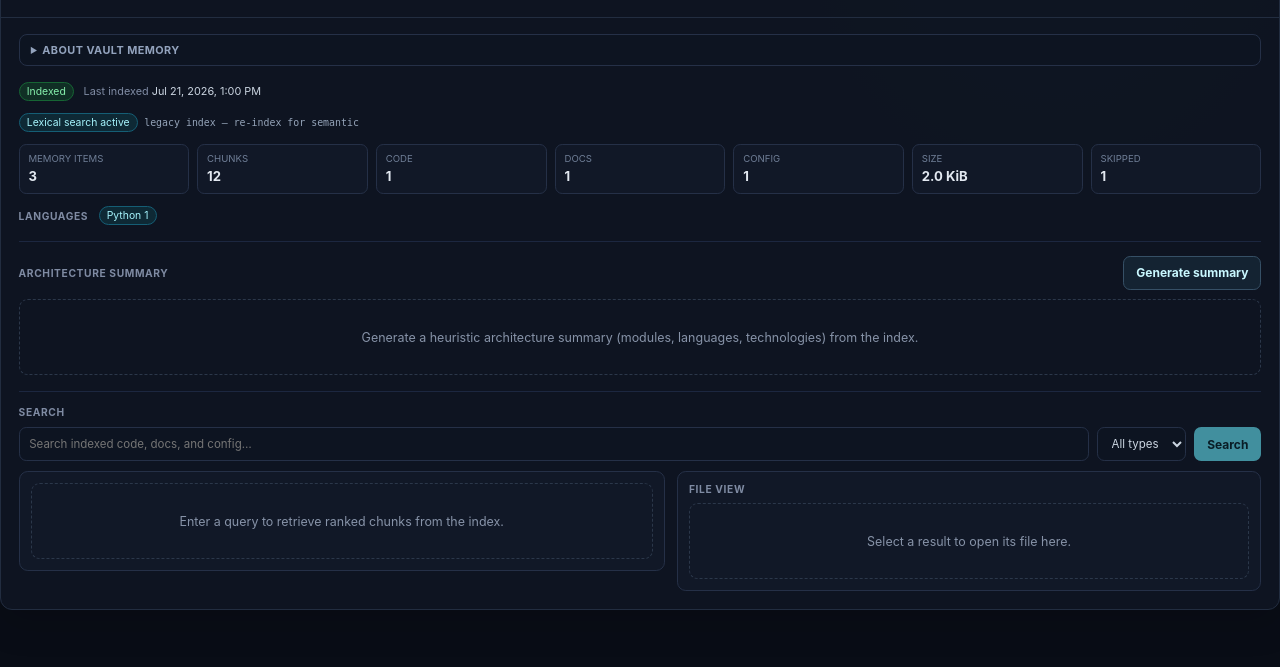
Test: VaultIndexPanel › opens a search result in a line-numbered file view and highlights the hit range
The image size is (1280, 667).
Type "authenticate" into the search field named "Vault search query" at point(554, 444), box [19,427,1089,461]
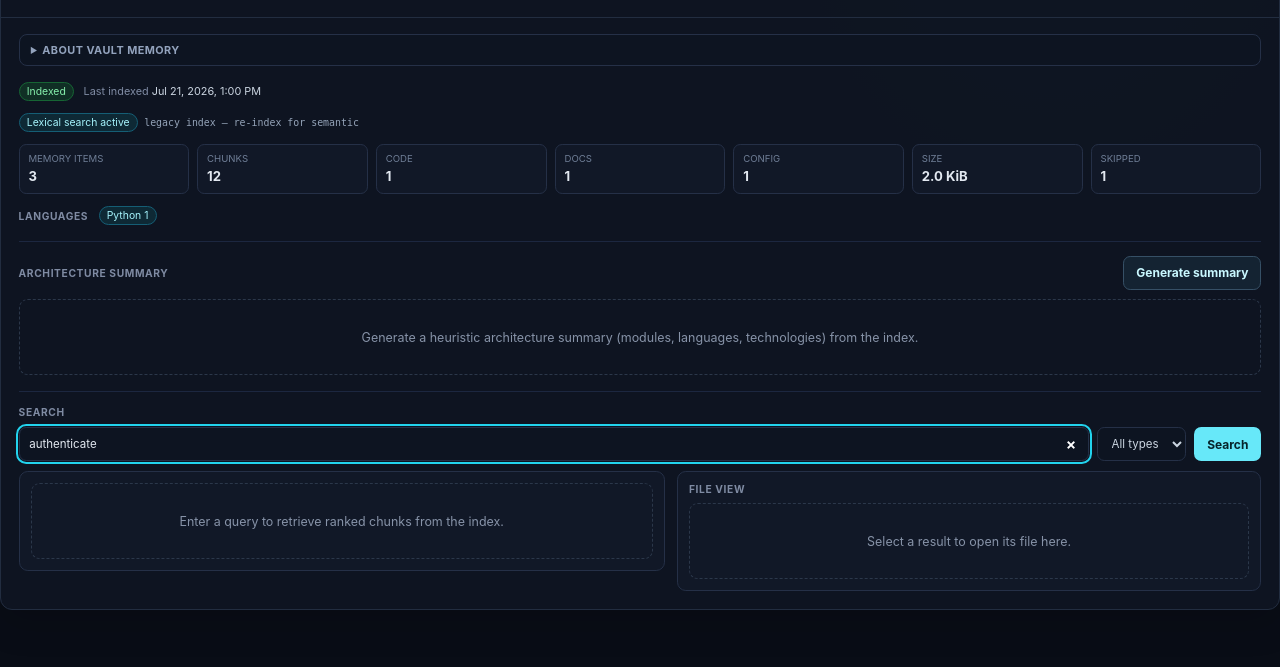
Click the button "Search" at point(1228, 444), box [1194,427,1261,461]
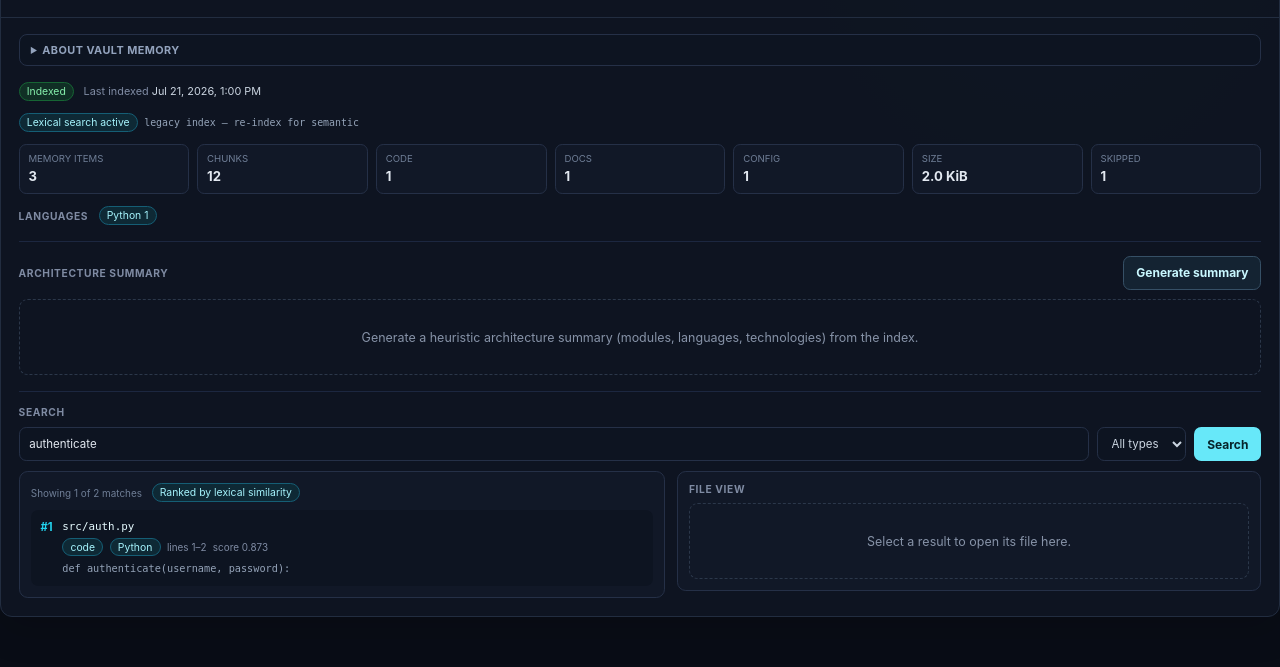
Click the button "src/auth.py" at point(98, 526), box [31,510,653,586]
(page scrolled)
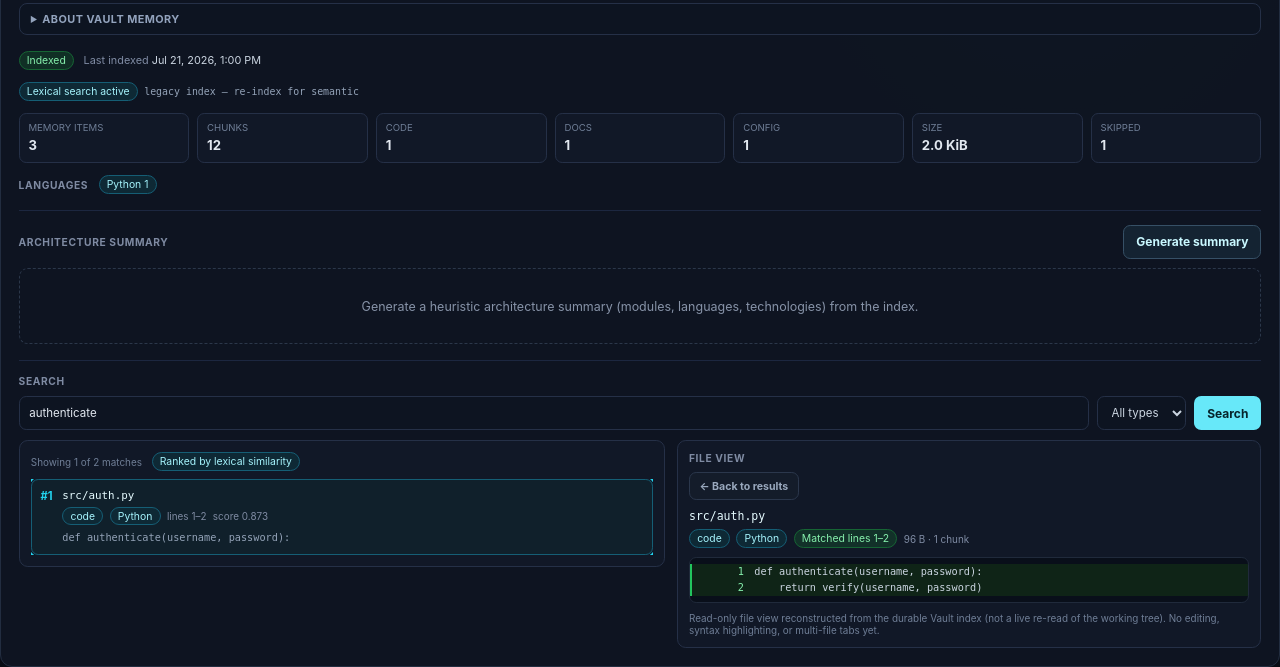
Result: the text "return verify(username, password)" is shown at [754,580,982,596]
Result: the text "Matched lines 1–2" is shown at [794,529,897,548]
Result: the text "2 return verify(username, password)" is shown at [690,580,1248,596]
Click the button "← Back to results" at point(744, 486), box [689,472,799,500]
(page scrolled)
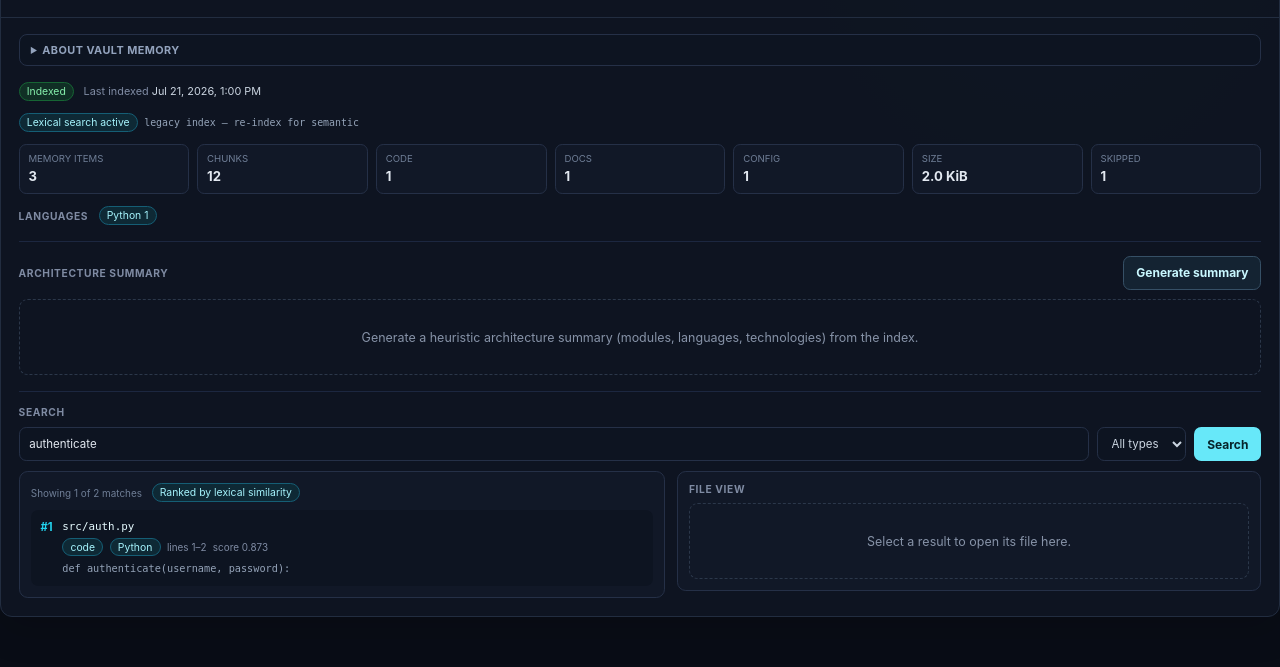
Result: the text "Select a result to open its file here." is shown at [689,503,1249,579]
